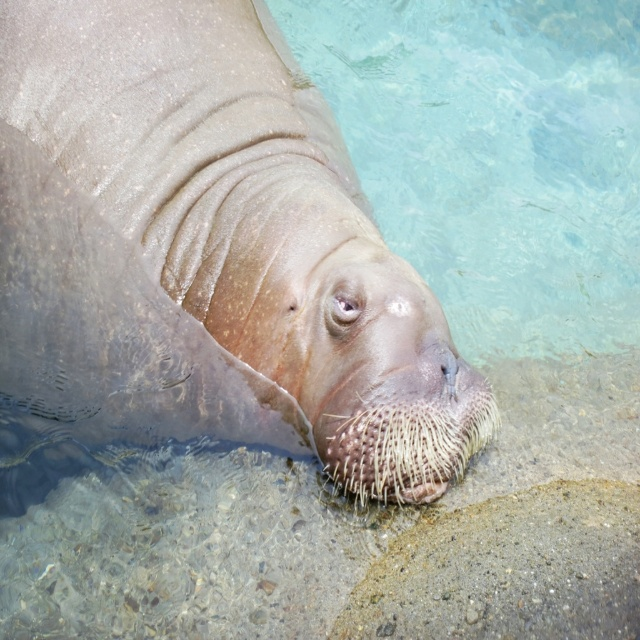Harbor seal: (0, 0, 502, 511)
